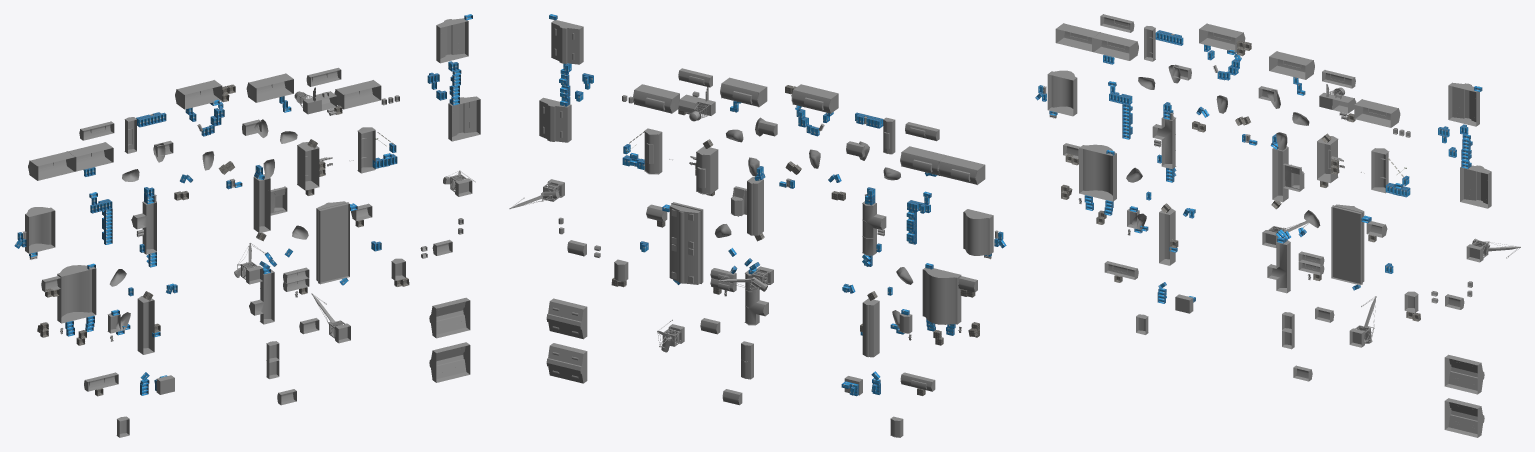
The model's file is AllProps_test1.fbx.
3 renders of one model, left to right at view 1: azimuth 30°, elevation 25°; view 2: azimuth 150°, elevation 25°; view 3: azimuth 330°, elevation 25°, orthographic. The views are drawn at different scales.
Parts seen in each view (by area): view 1: Box017; view 2: Box017; view 3: Box017.
Part boxes in pixels (x1,y1,x2,y2): Box017: (14, 14, 480, 437); Box017: (509, 14, 1006, 437); Box017: (1035, 14, 1520, 437).
Size of the model in its own units: 14303 by 10393 by 1432.
